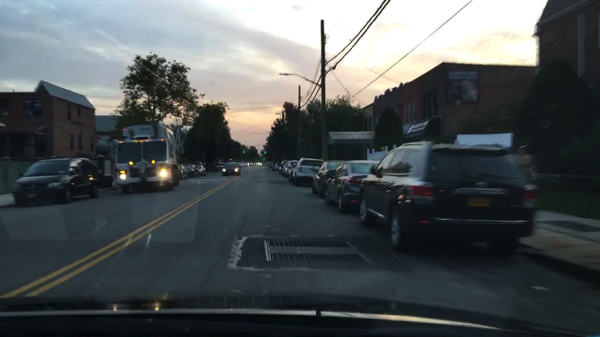bus: (112, 127, 180, 195)
car: (357, 141, 535, 257), (12, 155, 102, 207), (323, 160, 383, 213), (311, 160, 354, 195), (289, 158, 325, 186), (280, 160, 298, 178), (222, 162, 241, 177), (278, 158, 293, 175), (176, 165, 189, 181), (184, 165, 197, 178), (195, 165, 207, 177), (215, 162, 226, 170), (195, 162, 206, 168), (272, 162, 280, 169), (254, 161, 262, 167), (237, 162, 244, 168), (264, 161, 270, 166), (242, 162, 248, 166), (269, 161, 273, 167), (248, 162, 253, 166)
person: (514, 140, 537, 194)
traffic light: (262, 150, 267, 157), (242, 150, 246, 155)
